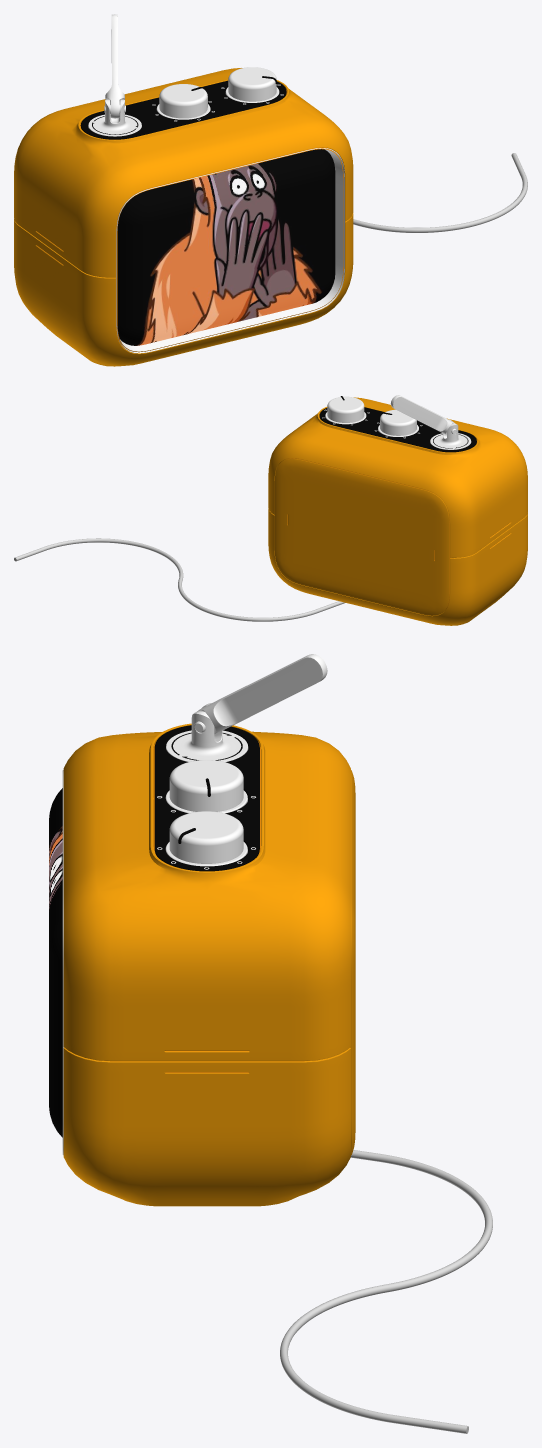
File: television.glb
The picture shows the model from 3 angles, top to bottom: view 1: azimuth 30°, elevation 25°; view 2: azimuth 150°, elevation 25°; view 3: azimuth 270°, elevation 25°; orthographic projection. The views are drawn at different scales.
Parts seen in each view (by area): view 1: Main Body, Screen, Screen frame, Knob (×2), Control panel, Cable, Details, Antena base, Antena; view 2: Main Body, Cable, Knob (×2), Control panel, Antena, Antena base, Details; view 3: Main Body, Knob (×2), Cable, Control panel, Screen, Antena, Antena base.
Part boxes in pixels (x1,y1,x2,y2): Main Body: (14,68,353,366); Screen: (117,149,335,345); Screen frame: (116,148,344,353); Knob (×2): (159,67,276,118); Control panel: (80,80,286,139); Cable: (353,153,527,232); Details: (36,89,343,352); Antena base: (88,99,141,136); Antena: (104,14,125,118); Main Body: (268,397,527,625); Cable: (14,538,345,621); Knob (×2): (327,396,416,435); Control panel: (319,407,476,452); Antena: (390,395,456,434); Antena base: (430,419,471,449); Details: (287,414,510,608); Main Body: (63,723,355,1206); Knob (×2): (169,760,243,863); Cable: (280,1150,492,1433); Control panel: (154,725,259,871); Screen: (49,788,62,1137); Antena: (194,654,327,734); Antena base: (166,703,248,762).
Bounding box in the file's own units: 0.3078 × 0.155 × 0.1403.
Materials: 7 (1 with a texture image).
